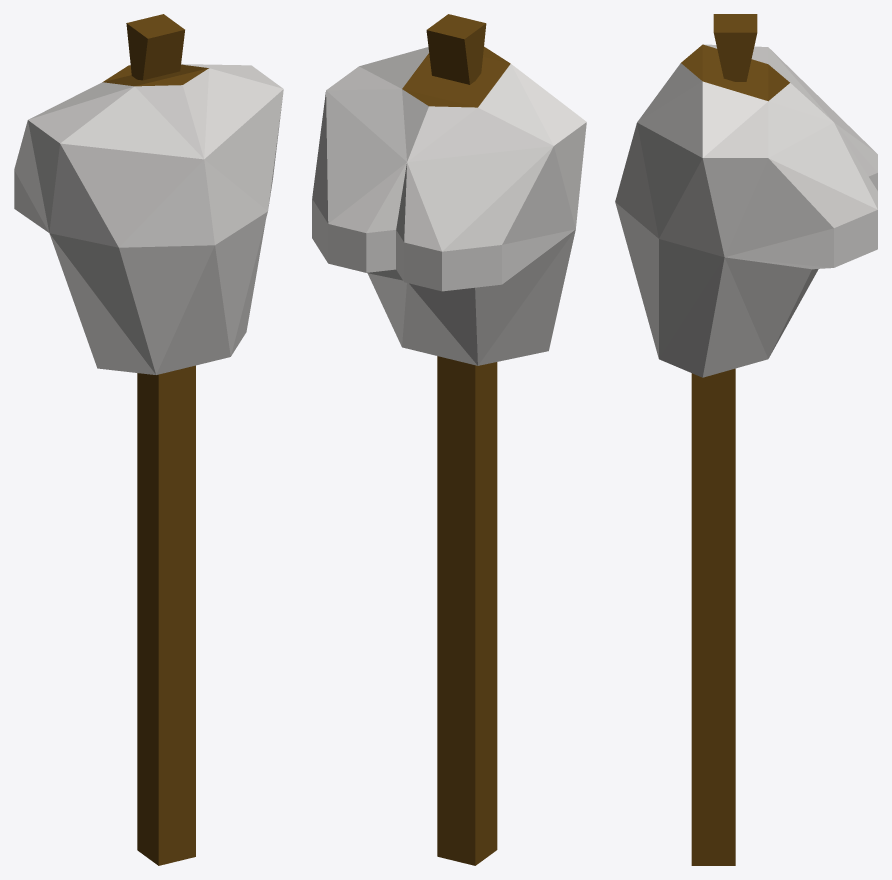
The model's file is obj_clothes_model_1_0.obj.
3 renders of one model, left to right at view 1: azimuth 30°, elevation 25°; view 2: azimuth 150°, elevation 25°; view 3: azimuth 270°, elevation 25°, orthographic.
Size of the model in its own units: 0.375 by 1.31 by 0.375.
